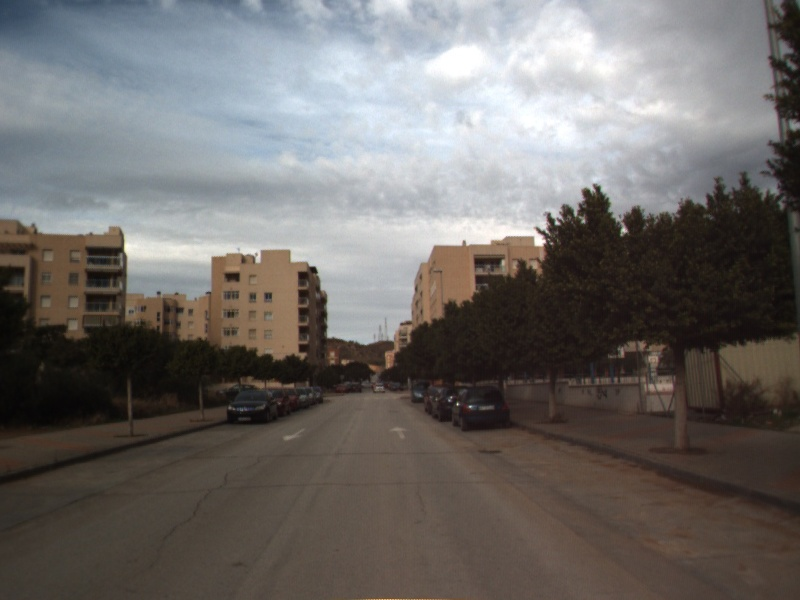STRAIGHT: (387, 425, 411, 441)
